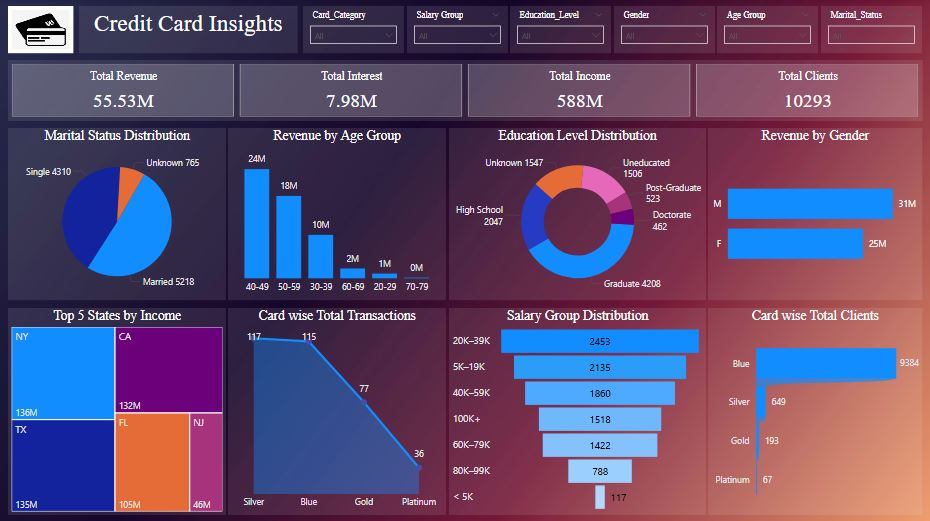

This screenshot's page, from the dashboard's own definition file:
{"tool":"powerbi","page":{"name":"Page 1","canvas":[1280,720],"ordinal":0},"visuals":[{"type":"cardVisual","fields":{"Data":["Fact Table.Total Revenue","Sum(Fact Table.Interest_Earned)","Dimension Table.Total Income","Fact Table.Total Clients"]},"box":[10.7,84.6,1258.6,83.5],"z":0,"group":"g4"},{"type":"group","id":"g1","title":"Group 1","box":[417.1,9.9,852.2,64.9],"z":1000,"group":"g4"},{"type":"slicer","fields":{"Values":["Fact Table.Card_Category"]},"box":[417.1,9.9,139.5,64.9],"z":1000,"group":"g1"},{"type":"barChart","title":"Revenue by Gender","fields":{"Y":["Fact Table.Total Revenue"],"Category":["Dimension Table.Gender"]},"box":[974.1,178,295.3,236.9],"z":1000,"group":"g2"},{"type":"funnel","title":"Salary Group Distribution","fields":{"Category":["Dimension Table.Salary Group"],"Y":["Fact Table.Total Clients"]},"box":[617.7,425.2,353.9,285],"z":1000,"group":"g3"},{"type":"slicer","fields":{"Values":["Dimension Table.Salary Group"]},"box":[559.6,9.9,139.5,64.9],"z":2000,"group":"g1"},{"type":"group","id":"g2","title":"Group 2","box":[10.7,178,1258.6,236.9],"z":2000,"group":"g4"},{"type":"pieChart","title":"Marital Status Distribution","fields":{"Category":["Dimension Table.Marital_Status"],"Y":["Fact Table.Total Clients"]},"box":[10.7,178,300.2,236.9],"z":2000,"group":"g2"},{"type":"treemap","title":"Top 5 States by Income","fields":{"Group":["Dimension Table.state_cd"],"Values":["Dimension Table.Total Income"]},"box":[11.2,425.2,300.2,285],"z":2000,"group":"g3"},{"type":"slicer","fields":{"Values":["Dimension Table.Education_Level"]},"box":[702.2,9.9,139.5,64.9],"z":3000,"group":"g1"},{"type":"columnChart","title":"Revenue by Age Group","fields":{"Y":["Fact Table.Total Revenue"],"Category":["Dimension Table.Age Group"]},"box":[313.9,178,300.2,236.9],"z":3000,"group":"g2"},{"type":"group","id":"g3","title":"Group 3","box":[11.2,425.2,1258.6,285],"z":3000,"group":"g4"},{"type":"lineChart","title":"Card wise Total Transactions","fields":{"Category":["Fact Table.Card_Category"],"Y":["Count(Fact Table.Total_Trans_Ct)"]},"box":[314.4,425.2,300.2,285],"z":3000,"group":"g3"},{"type":"textbox","box":[108.1,9.9,301.1,64.9],"z":4000,"group":"g4"},{"type":"slicer","fields":{"Values":["Dimension Table.Gender"]},"box":[844.7,9.9,139.5,64.9],"z":4000,"group":"g1"},{"type":"donutChart","title":"Education Level Distribution","fields":{"Category":["Dimension Table.Education_Level"],"Y":["Fact Table.Total Clients"]},"box":[617.1,178,353.9,236.9],"z":4000,"group":"g2"},{"type":"barChart","title":"Card wise Total Clients","fields":{"Category":["Fact Table.Card_Category"],"Y":["Fact Table.Total Clients"]},"box":[974.6,425.2,295.2,285],"z":4000,"group":"g3"},{"type":"image","box":[10.7,9.9,89.5,64.9],"z":5000,"group":"g4"},{"type":"slicer","fields":{"Values":["Dimension Table.Age Group"]},"box":[987.3,9.9,139.5,64.9],"z":5000,"group":"g1"},{"type":"group","id":"g4","title":"Group 4","box":[10.7,9.9,1259.1,700.3],"z":5001},{"type":"slicer","fields":{"Values":["Dimension Table.Marital_Status"]},"box":[1129.8,9.9,139.5,64.9],"z":6000,"group":"g1"}]}

Visuals, with their boxes in screenshot pixels (x1, y1, x2, y2), scaled from the page's 1280x720 canvas onto the 930x521 screenshot:
cardVisual - Fact Table.Total Revenue x Sum(Fact Table.Interest_Earned): 8/61/922/122
"Group 1" group: 303/7/922/54
slicer - Fact Table.Card_Category: 303/7/404/54
"Revenue by Gender" barChart: 708/129/922/300
"Salary Group Distribution" funnel: 449/308/706/514
slicer - Dimension Table.Salary Group: 407/7/508/54
"Group 2" group: 8/129/922/300
"Marital Status Distribution" pieChart: 8/129/226/300
"Top 5 States by Income" treemap: 8/308/226/514
slicer - Dimension Table.Education_Level: 510/7/612/54
"Revenue by Age Group" columnChart: 228/129/446/300
"Group 3" group: 8/308/923/514
"Card wise Total Transactions" lineChart: 228/308/447/514
textbox: 79/7/297/54
slicer - Dimension Table.Gender: 614/7/715/54
"Education Level Distribution" donutChart: 448/129/705/300
"Card wise Total Clients" barChart: 708/308/923/514
image: 8/7/73/54
slicer - Dimension Table.Age Group: 717/7/819/54
"Group 4" group: 8/7/923/514
slicer - Dimension Table.Marital_Status: 821/7/922/54
